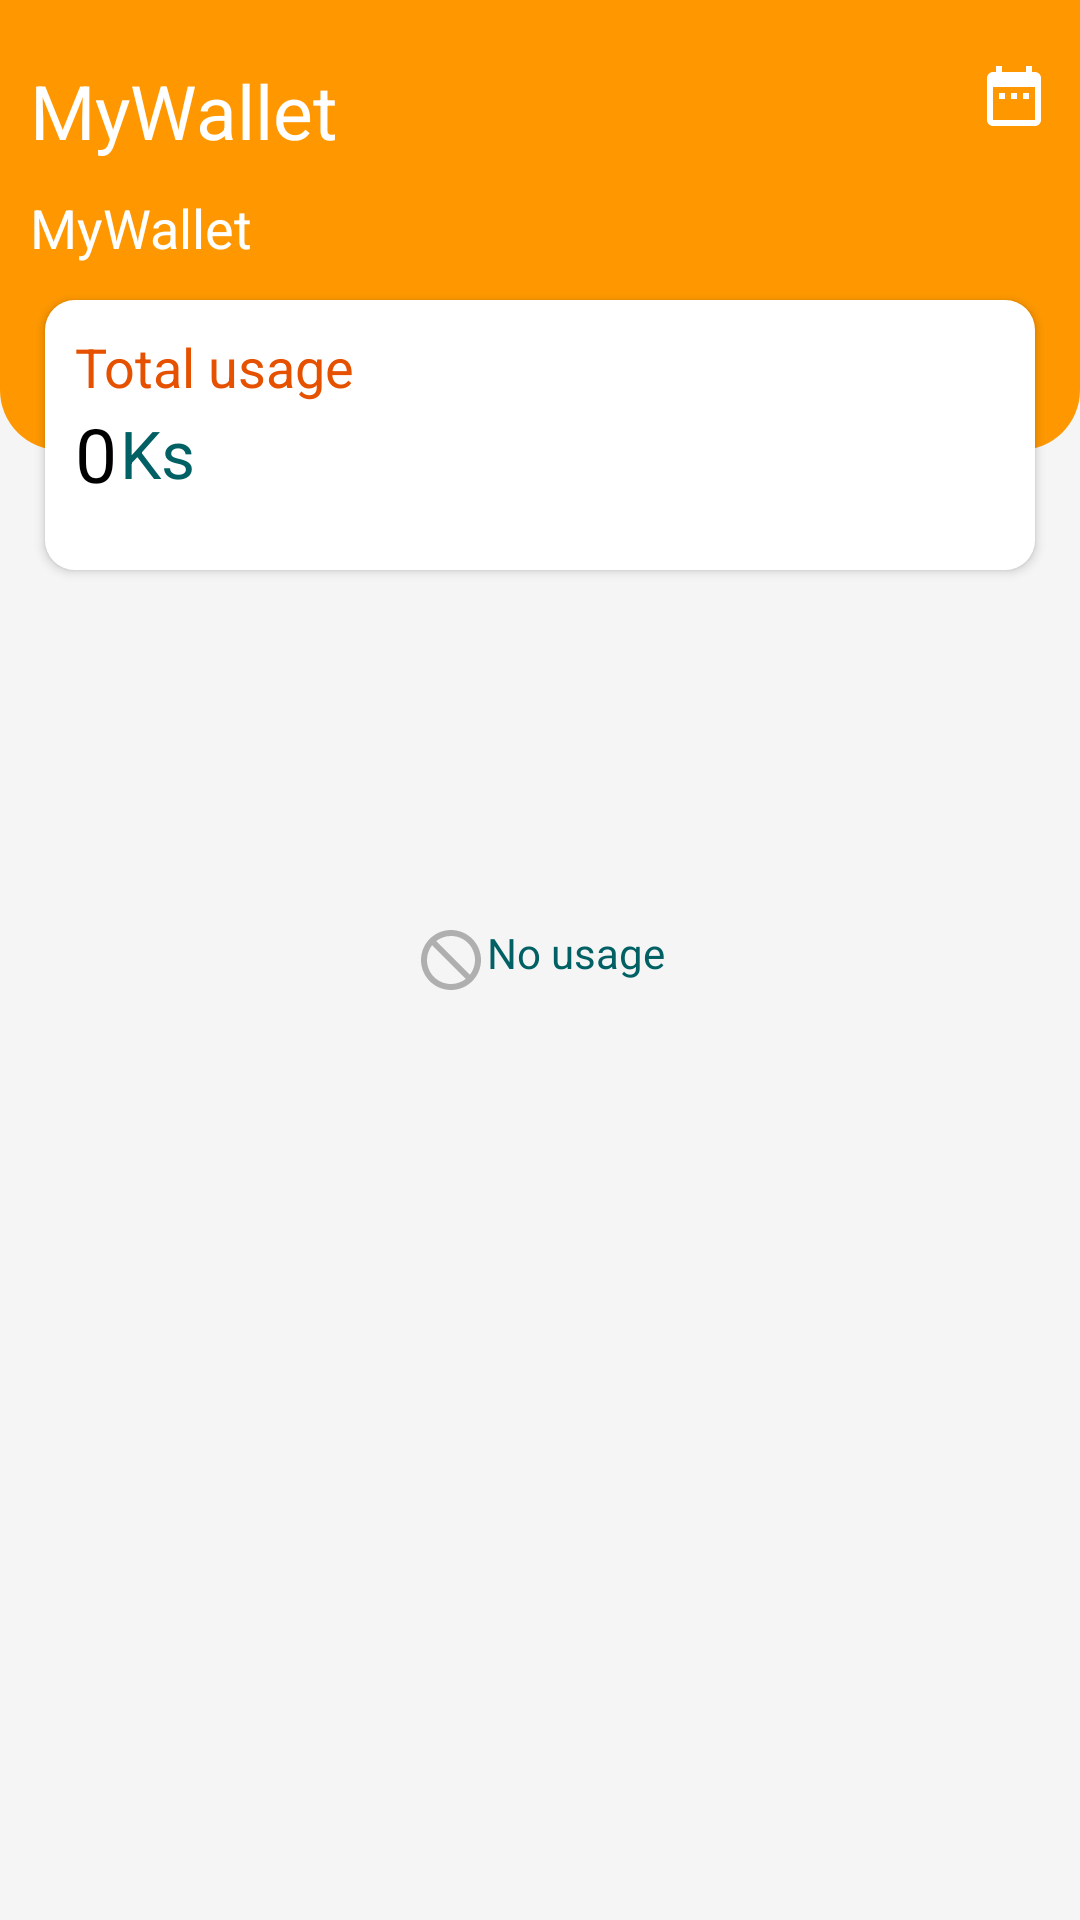

Screen size 1080 x 1920. Icon name, then its center in pixels as (x=x, y=y):
date range: (x=1014, y=96)
